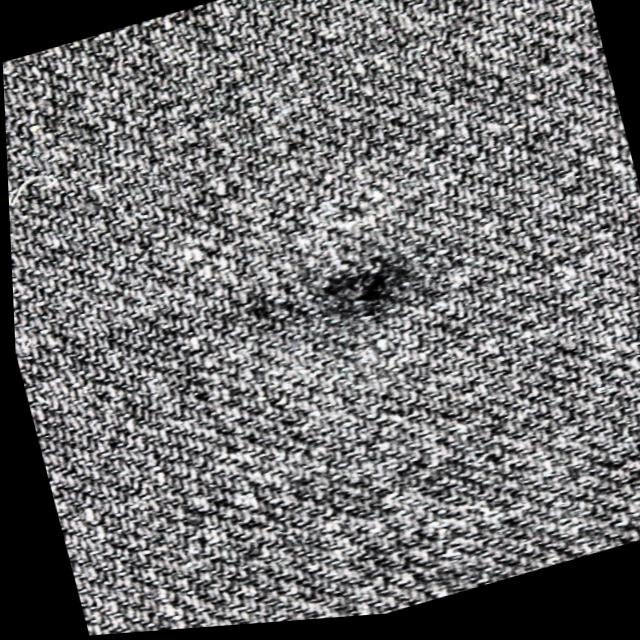Hole: (327, 265, 405, 319)
